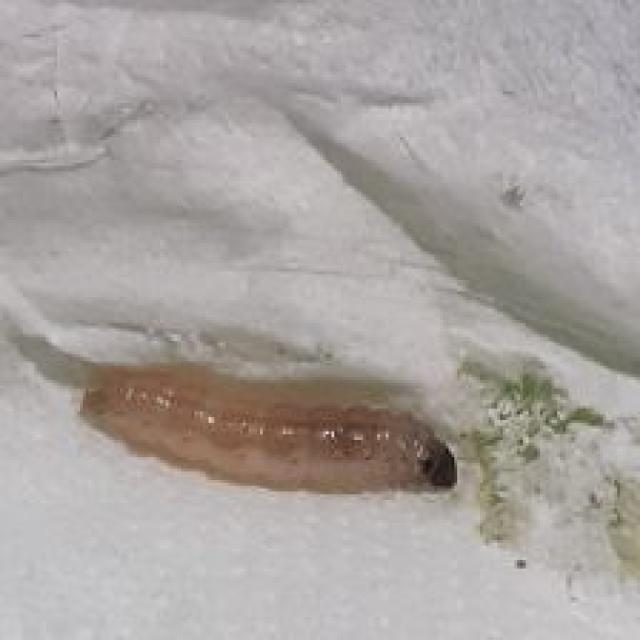white mucus: (65, 379, 484, 503)
